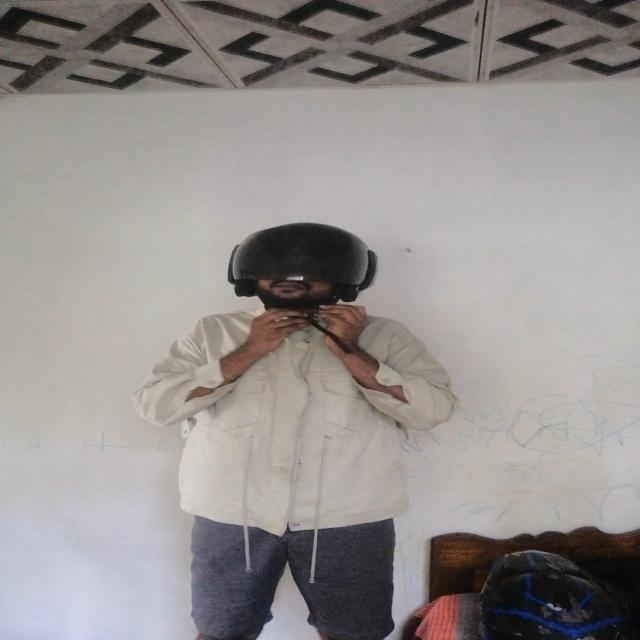Helmet_Wearer: (216, 214, 387, 323)
Jacket_Wearer: (135, 302, 465, 518)
Person: (150, 225, 452, 640)
